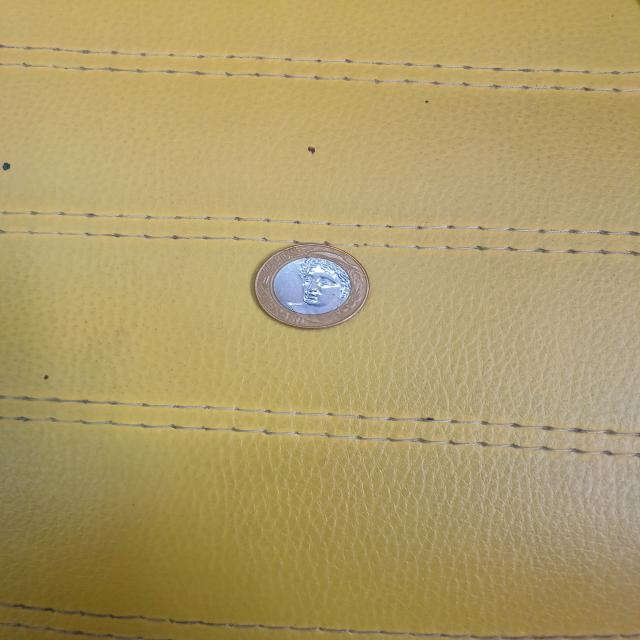1 real: (248, 237, 374, 335)
